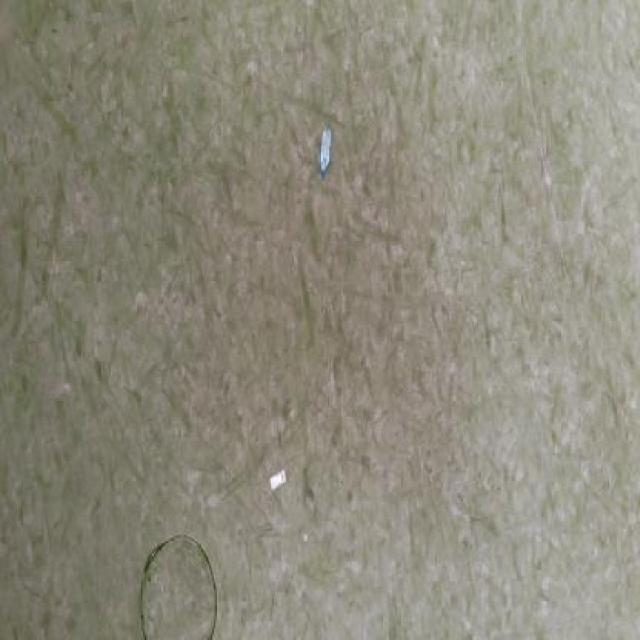Garbage: (318, 126, 332, 177), (269, 470, 286, 492), (304, 534, 307, 543)
